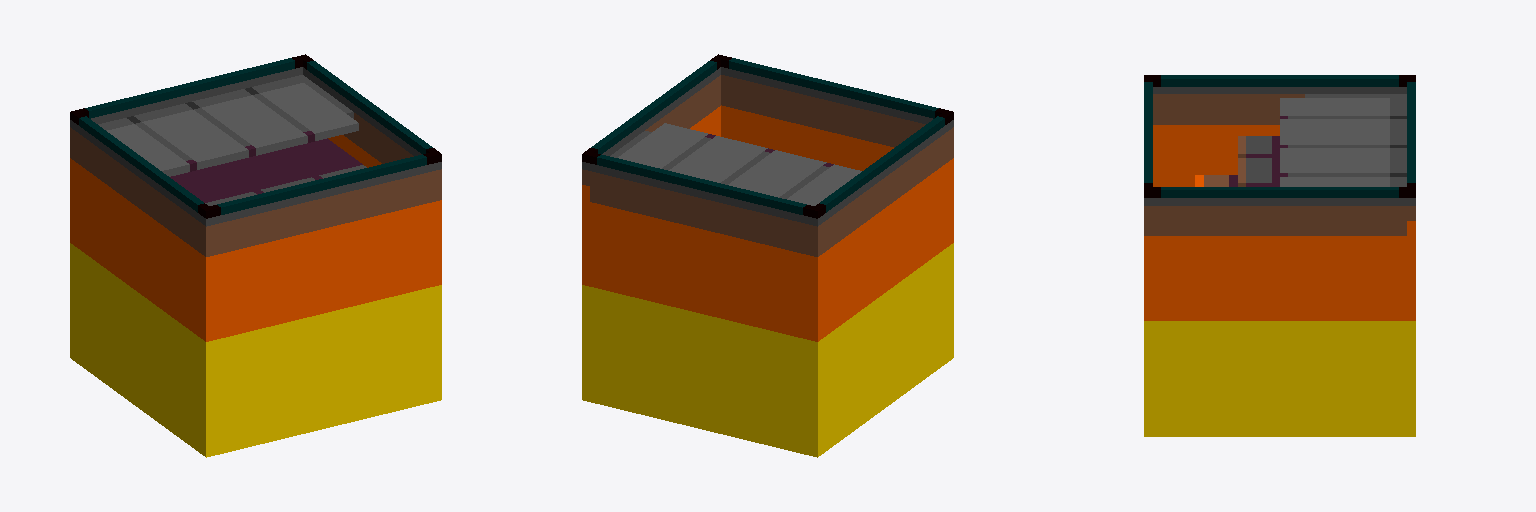
The picture shows the model from 3 angles: view 1: azimuth 30°, elevation 25°; view 2: azimuth 150°, elevation 25°; view 3: azimuth 270°, elevation 25°; orthographic projection.
Visible parts, largest first — view 1: object 1; view 2: object 1; view 3: object 1.
Boxes of the visible parts, x1=… form: object 1: x1=70, y1=54, x2=441, y2=457; object 1: x1=582, y1=54, x2=953, y2=457; object 1: x1=1144, y1=75, x2=1415, y2=436.
Size of the model in its own units: 3.2 by 3.2 by 3.2.
Materials: 1 (1 with a texture image).